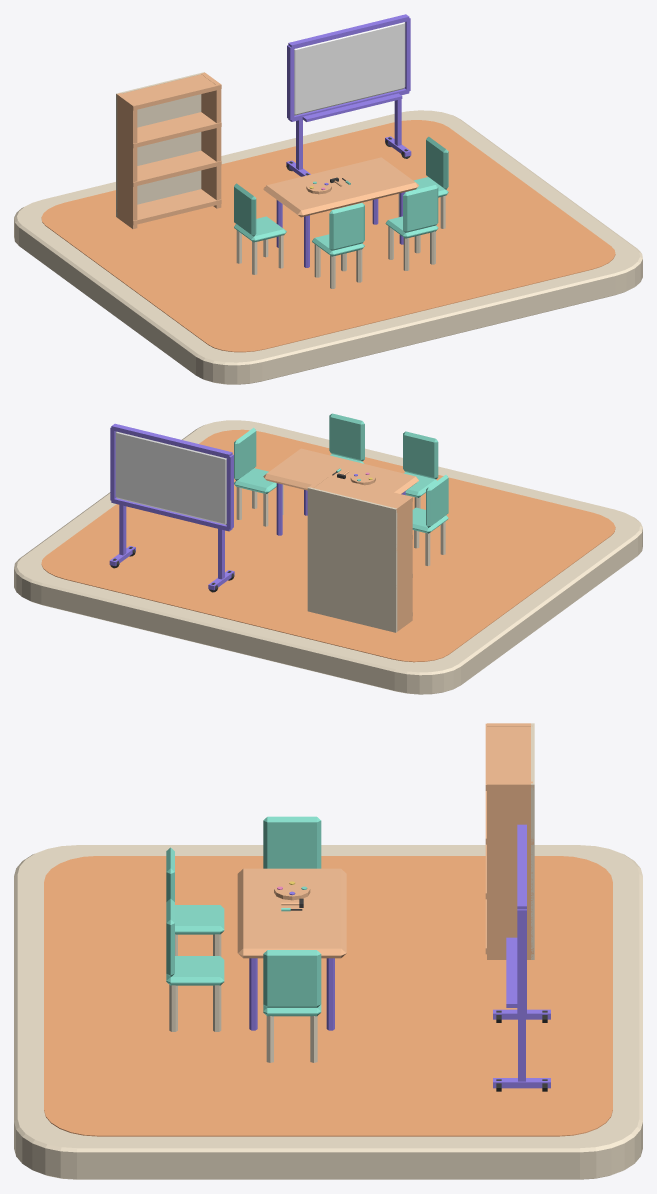
File: room.fbx
The picture shows the model from 3 angles, top to bottom: view 1: azimuth 30°, elevation 25°; view 2: azimuth 150°, elevation 25°; view 3: azimuth 270°, elevation 25°; orthographic projection. The views are drawn at different scales.
Visible parts, largest first — view 1: COM-02 Floor Surface, COM-01 Rounded Base Direct, Writing surface, Rounded table top, Back, Side, Side.001, Shelf.003, Shelf, Shelf.001, Shelf.002, Backrest.002 (+7 smaller); view 2: COM-02 Floor Surface, COM-01 Rounded Base Direct, Back, Writing surface, Rounded table top, Side, Backrest.002, Backrest.003, Shelf.003, Frame rail.001, Backrest, Backrest.001 (+6 smaller); view 3: COM-02 Floor Surface, COM-01 Rounded Base Direct, Rounded table top, Side.001, Backrest.001, Backrest, Shelf.003, Seat.003, Seat.002, Frame upright.001, Back, Frame rail.001 (+4 smaller).
Part boxes in pixels (left/top/right/bottom): COM-02 Floor Surface: left=41, top=120, right=615, bottom=352; COM-01 Rounded Base Direct: left=14, top=110, right=642, bottom=384; Writing surface: left=294, top=22, right=405, bottom=115; Rounded table top: left=263, top=157, right=418, bottom=217; Back: left=116, top=72, right=204, bottom=217; Side: left=117, top=93, right=137, bottom=228; Side.001: left=201, top=72, right=221, bottom=208; Shelf.003: left=117, top=74, right=221, bottom=110; Shelf: left=116, top=189, right=221, bottom=225; Shelf.001: left=117, top=150, right=221, bottom=186; Shelf.002: left=117, top=112, right=221, bottom=148; Backrest.002: left=329, top=203, right=364, bottom=250; COM-02 Floor Surface: left=41, top=429, right=615, bottom=662; COM-01 Rounded Base Direct: left=14, top=420, right=642, bottom=694; Back: left=307, top=487, right=397, bottom=632; Writing surface: left=115, top=431, right=226, bottom=524; Rounded table top: left=263, top=448, right=418, bottom=493; Side: left=393, top=496, right=412, bottom=631; Backrest.002: left=403, top=431, right=438, bottom=479; Backrest.003: left=329, top=413, right=364, bottom=461; Shelf.003: left=314, top=475, right=412, bottom=512; Frame rail.001: left=111, top=423, right=232, bottom=458; Backrest: left=426, top=475, right=448, bottom=527; Backrest.001: left=234, top=427, right=256, bottom=480; COM-02 Floor Surface: left=44, top=856, right=612, bottom=1136; COM-01 Rounded Base Direct: left=14, top=845, right=642, bottom=1179; Rounded table top: left=237, top=868, right=346, bottom=958; Side.001: left=487, top=781, right=532, bottom=959; Backrest.001: left=263, top=950, right=321, bottom=1007; Backrest: left=263, top=816, right=321, bottom=868; Shelf.003: left=485, top=723, right=533, bottom=790; Seat.003: left=166, top=956, right=224, bottom=985; Seat.002: left=175, top=905, right=224, bottom=934; Frame upright.001: left=517, top=909, right=526, bottom=1013; Back: left=531, top=723, right=534, bottom=959; Frame rail.001: left=517, top=824, right=526, bottom=909.
Bounding box in the file's own units: 600 × 204 × 520.
